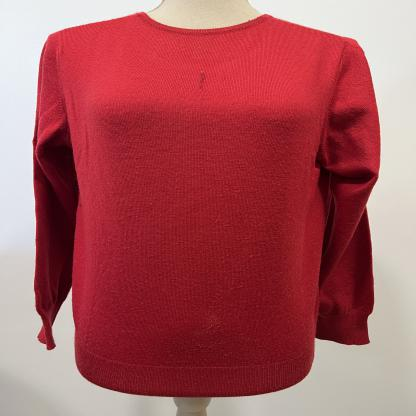stain: (195, 72, 210, 91)
